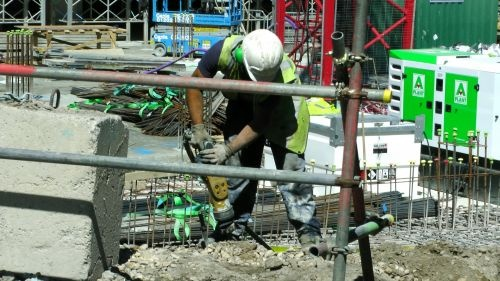white: (239, 28, 282, 87)
